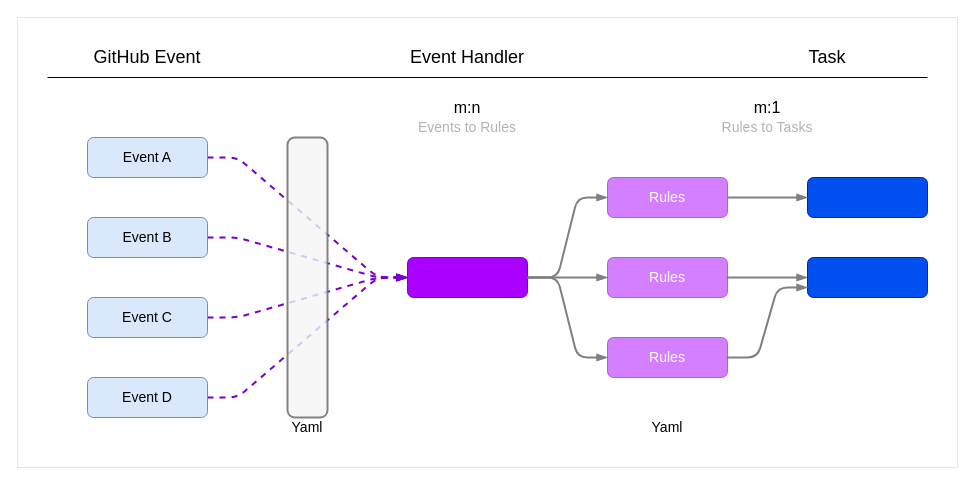
Image size: 975x485. Some labels were removed from this diagram. Here are the shapes that lost their labels. From the top down, the centre of each, then its label:
pixel 867 197: Task A
pixel 307 277: Event Mapping
pixel 467 277: Rules Engine
pixel 867 277: Task B
